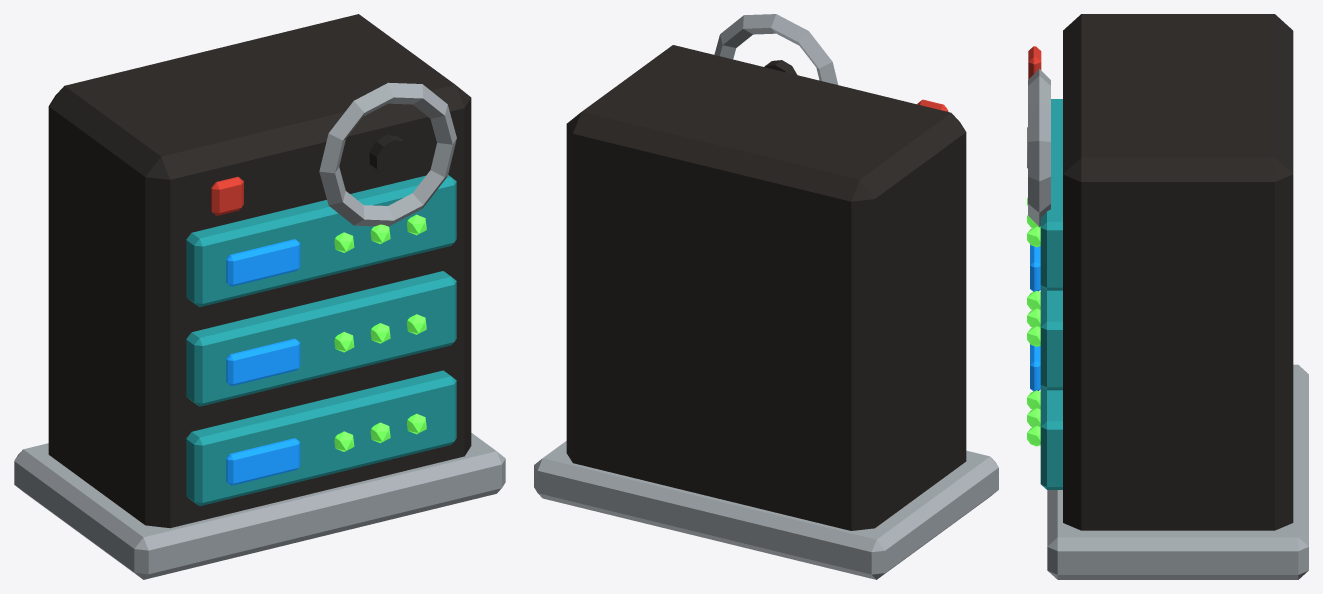
Rendered from compute.glb.
The picture shows the model from 3 angles, left to right: view 1: azimuth 30°, elevation 25°; view 2: azimuth 150°, elevation 25°; view 3: azimuth 270°, elevation 25°; orthographic projection. The views are drawn at different scales.
Parts seen in each view (by area): view 1: compute-black-server-rack, compute-rack-foot, compute-teal-server-tray-0, compute-teal-server-tray-1, compute-teal-server-tray-2, compute-large-cooling-fan, compute-blue-display-1, compute-blue-display-0, compute-blue-display-2, compute-fan-hub, compute-red-power-switch; view 2: compute-black-server-rack, compute-rack-foot, compute-large-cooling-fan; view 3: compute-black-server-rack, compute-rack-foot, compute-large-cooling-fan, compute-teal-server-tray-2, compute-teal-server-tray-1, compute-teal-server-tray-0, compute-blue-display-0, compute-blue-display-1.
Boxes of the visible parts, x1,y1,x2,y2 form: compute-black-server-rack: (48, 14, 471, 528); compute-rack-foot: (14, 433, 505, 579); compute-teal-server-tray-0: (186, 370, 456, 506); compute-teal-server-tray-1: (186, 271, 456, 406); compute-teal-server-tray-2: (186, 175, 456, 307); compute-large-cooling-fan: (319, 82, 456, 226); compute-blue-display-1: (226, 338, 300, 386); compute-blue-display-0: (226, 438, 300, 485); compute-blue-display-2: (226, 239, 300, 286); compute-fan-hub: (369, 135, 411, 177); compute-red-power-switch: (211, 176, 243, 215); compute-black-server-rack: (566, 45, 966, 530); compute-rack-foot: (534, 441, 998, 579); compute-large-cooling-fan: (714, 14, 838, 84); compute-black-server-rack: (1063, 14, 1293, 530); compute-rack-foot: (1047, 364, 1308, 579); compute-large-cooling-fan: (1028, 69, 1050, 226); compute-teal-server-tray-2: (1040, 99, 1062, 290); compute-teal-server-tray-1: (1040, 285, 1062, 390); compute-teal-server-tray-0: (1040, 385, 1062, 489); compute-blue-display-0: (1030, 344, 1040, 391); compute-blue-display-1: (1030, 244, 1040, 291).
Bounding box in the file's own units: 0.8705 × 1 × 0.5719.
